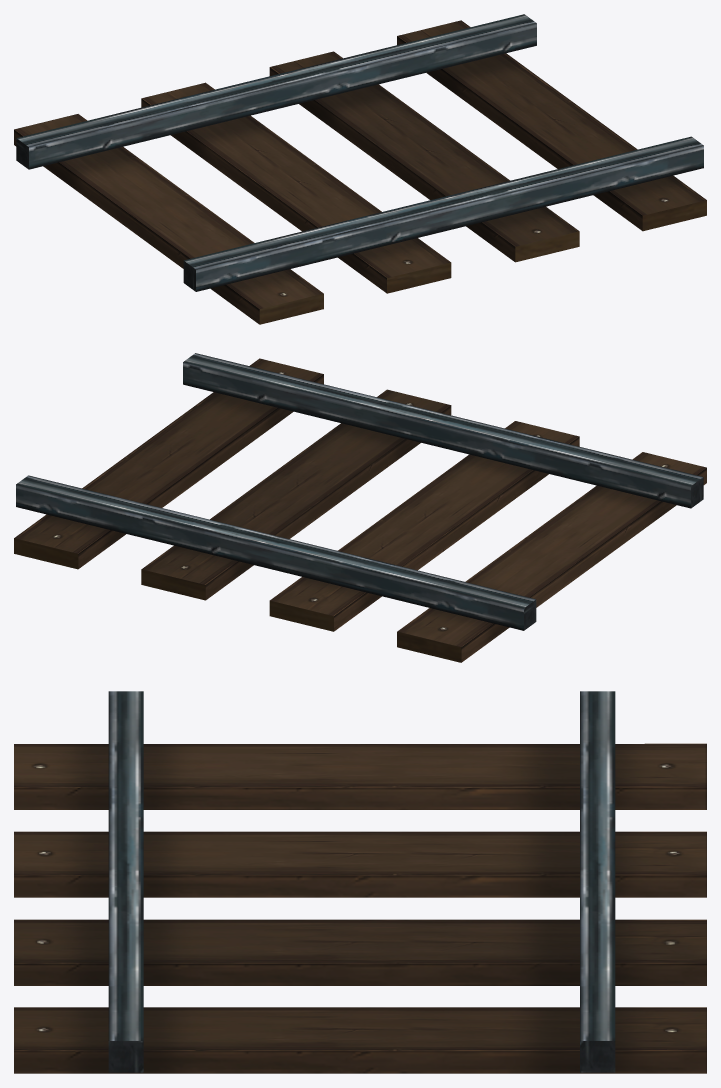
Rendered from rail1.FBX.
3 views of the same model, one above another, from view 1: azimuth 30°, elevation 25°; view 2: azimuth 150°, elevation 25°; view 3: azimuth 270°, elevation 25° (orthographic). The views are drawn at different scales.
Visible parts, largest first — view 1: rail1; view 2: rail1; view 3: rail1.
Boxes of the visible parts, x1,y1,x2,y2 form: rail1: (14,14,706,324); rail1: (14,353,706,662); rail1: (14,691,706,1073).
Bounding box in the file's own units: 142 × 10.19 × 119.
